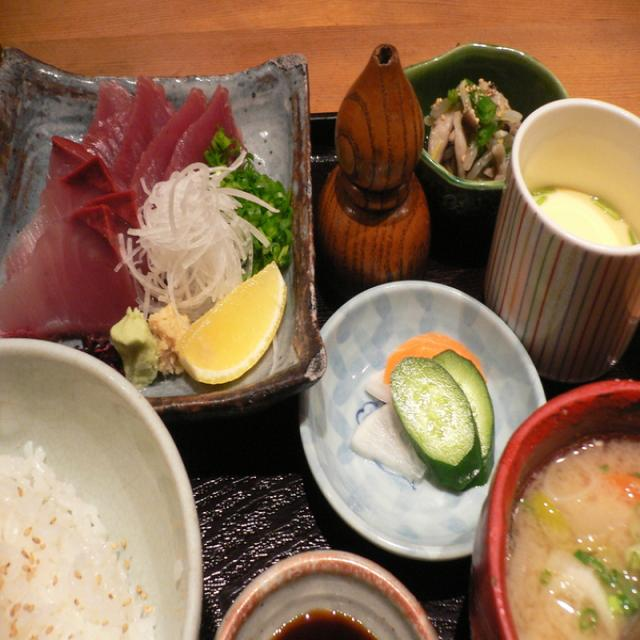刺身生食: (0, 50, 261, 384)
